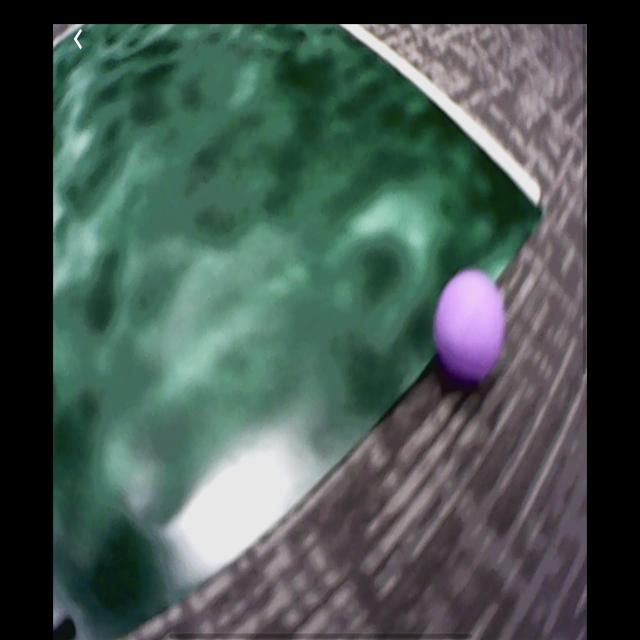ball: (435, 269, 504, 379)
